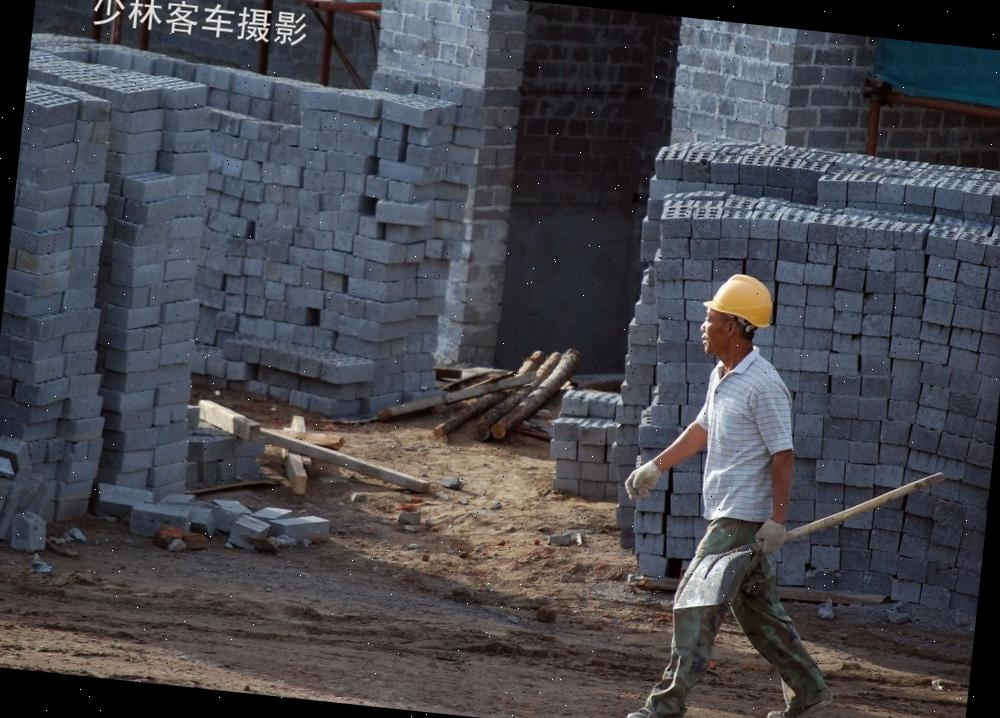helmet: (700, 270, 779, 332)
no_wear: (698, 357, 797, 526)
